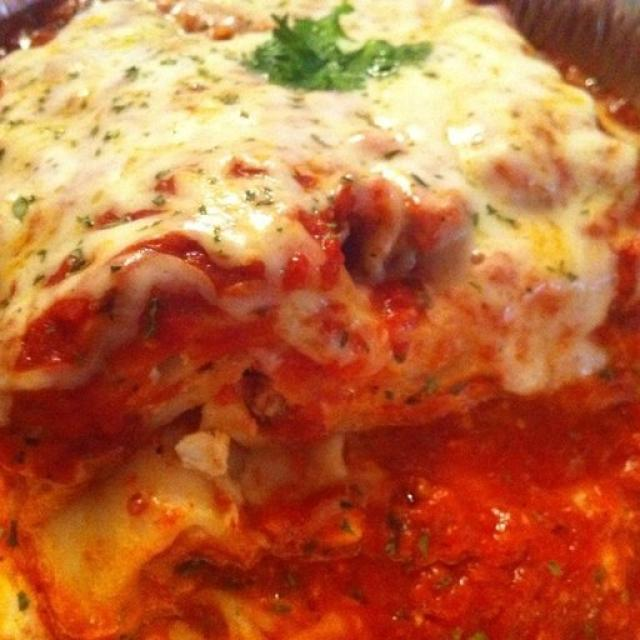Lasagna: (15, 9, 601, 470)
